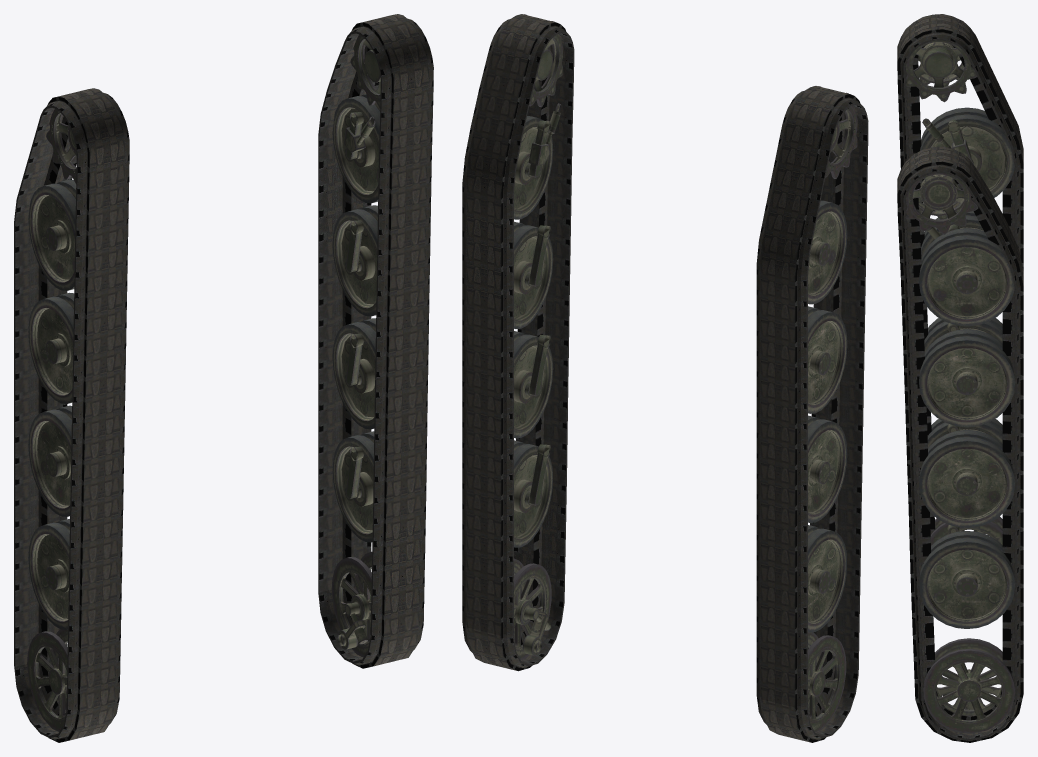
The model's file is Chassis.glb.
3 views of the same model, side by side, from view 1: azimuth 30°, elevation 25°; view 2: azimuth 150°, elevation 25°; view 3: azimuth 270°, elevation 25° (orthographic). The views are drawn at different scales.
Visible parts, largest first — view 1: set_0_group_0, set_1_group_0, set_3_group_0, set_2_group_0; view 2: set_0_group_0, set_1_group_0, set_3_group_0, set_2_group_0; view 3: set_3_group_0, set_1_group_0, set_2_group_0, set_0_group_0.
Boxes of the visible parts, x1=… form: set_0_group_0: x1=14, y1=88, x2=129, y2=742; set_1_group_0: x1=318, y1=14, x2=433, y2=668; set_3_group_0: x1=331, y1=15, x2=423, y2=657; set_2_group_0: x1=27, y1=89, x2=118, y2=731; set_0_group_0: x1=756, y1=86, x2=868, y2=742; set_1_group_0: x1=462, y1=14, x2=574, y2=671; set_3_group_0: x1=500, y1=14, x2=562, y2=660; set_2_group_0: x1=788, y1=86, x2=857, y2=732; set_3_group_0: x1=904, y1=147, x2=1015, y2=733; set_1_group_0: x1=897, y1=146, x2=1023, y2=742; set_2_group_0: x1=904, y1=15, x2=1014, y2=545; set_0_group_0: x1=897, y1=14, x2=1023, y2=534.
Size of the model in its own units: 2.6 by 4.55 by 0.8971.
4 materials, 4 textured.
